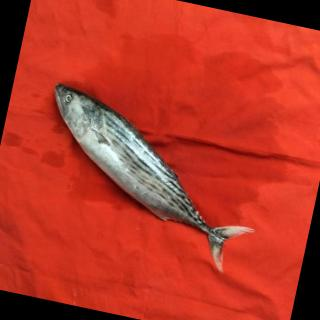Ikan: (14, 70, 279, 283)
